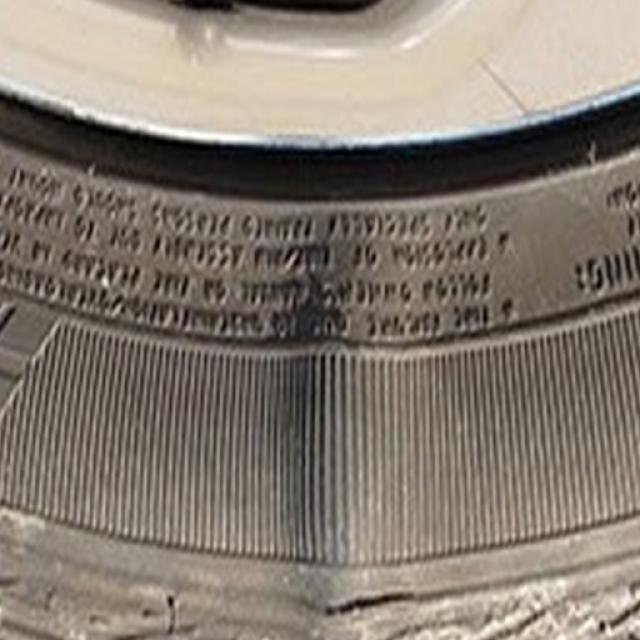Bulge: (240, 321, 401, 609)
